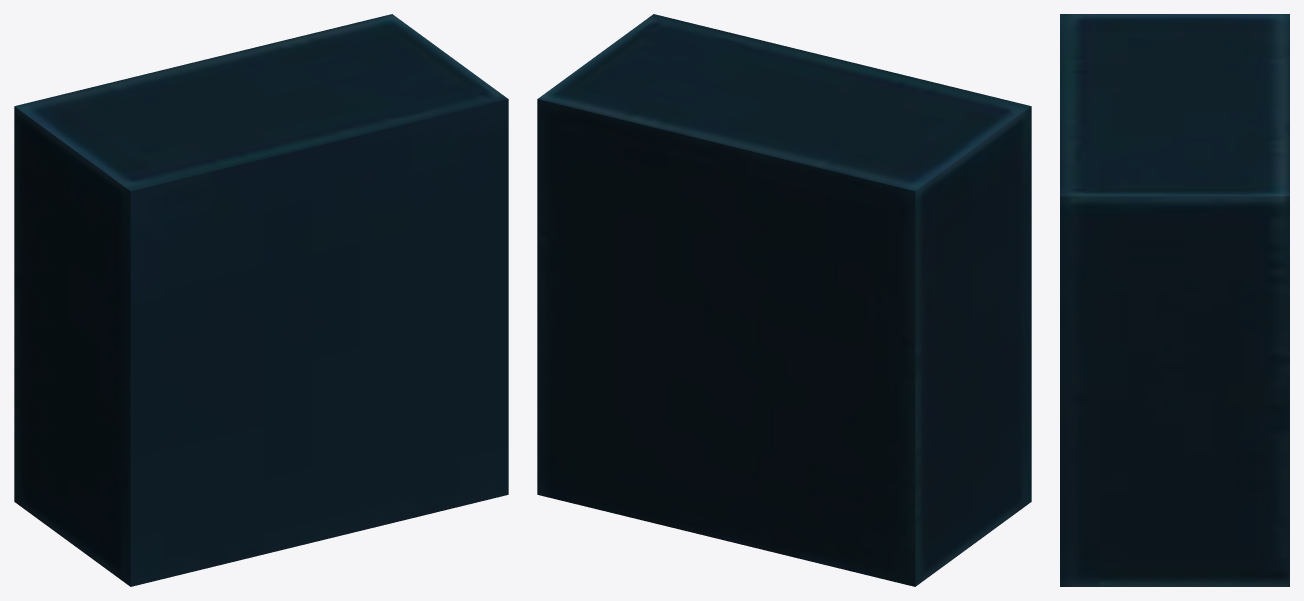
The model's file is body__shoe_stem.glb.
3 renders of one model, left to right at view 1: azimuth 30°, elevation 25°; view 2: azimuth 150°, elevation 25°; view 3: azimuth 270°, elevation 25°, orthographic.
Visible parts, largest first — view 1: world; view 2: world; view 3: world.
Boxes of the visible parts, x1,y1,x2,y2 form: world: (14,14,508,586); world: (537,14,1031,586); world: (1060,14,1289,586).
Bounding box in the file's own units: 0.015 × 0.015 × 0.008.
1 material, 1 textured.
